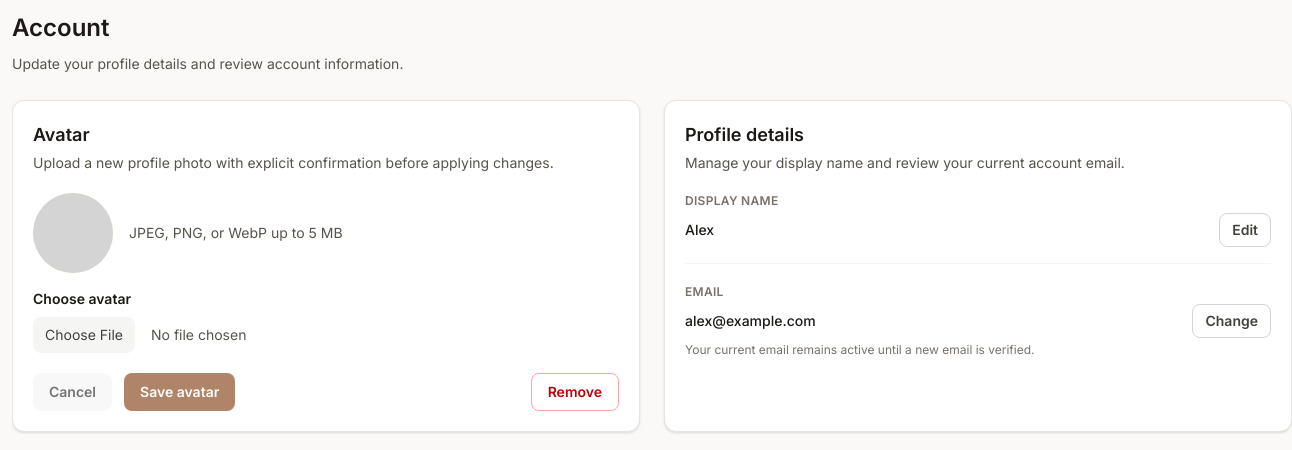
AccountSettingsClient › avatar removal › cancels inline confirmation and returns to Remove button
Click the button "Remove" at (575, 392), box [531,373,619,411]
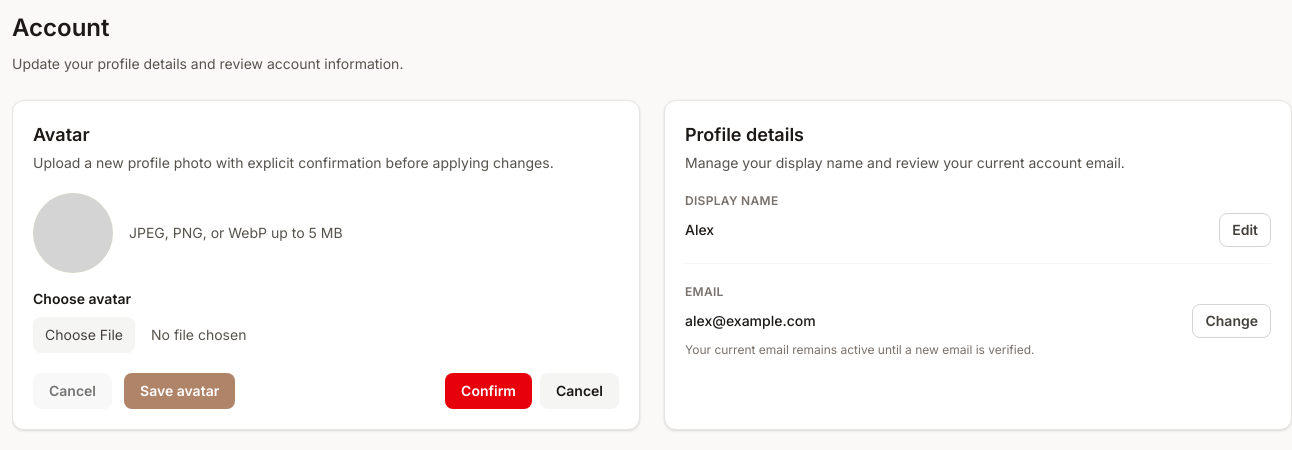
Now the button "Confirm" is shown, box [445,373,532,409]
Click the 2nd button "Cancel" at (580, 391), box [540,373,619,409]
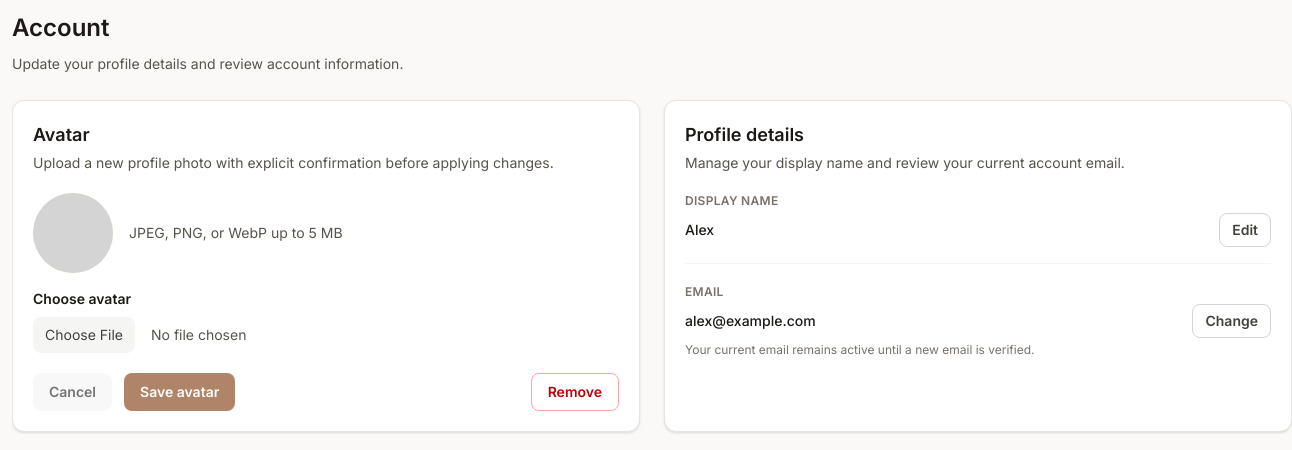
Now the button "Remove" is shown, box [531,373,619,411]
